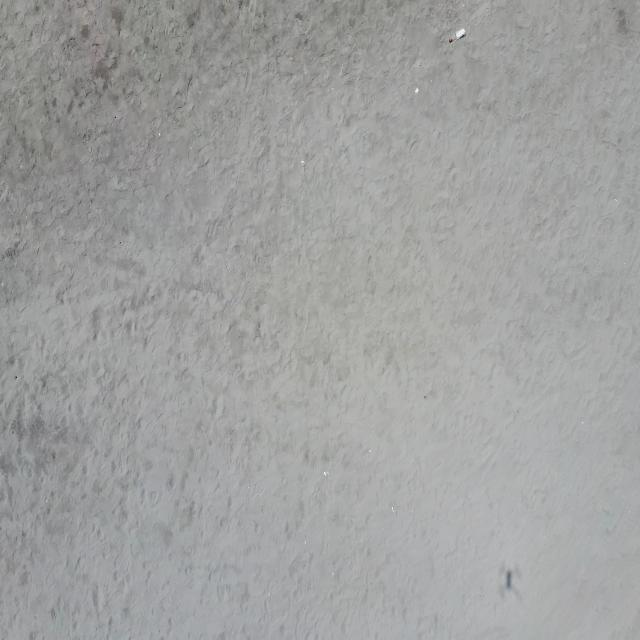glass: (448, 28, 466, 43)
